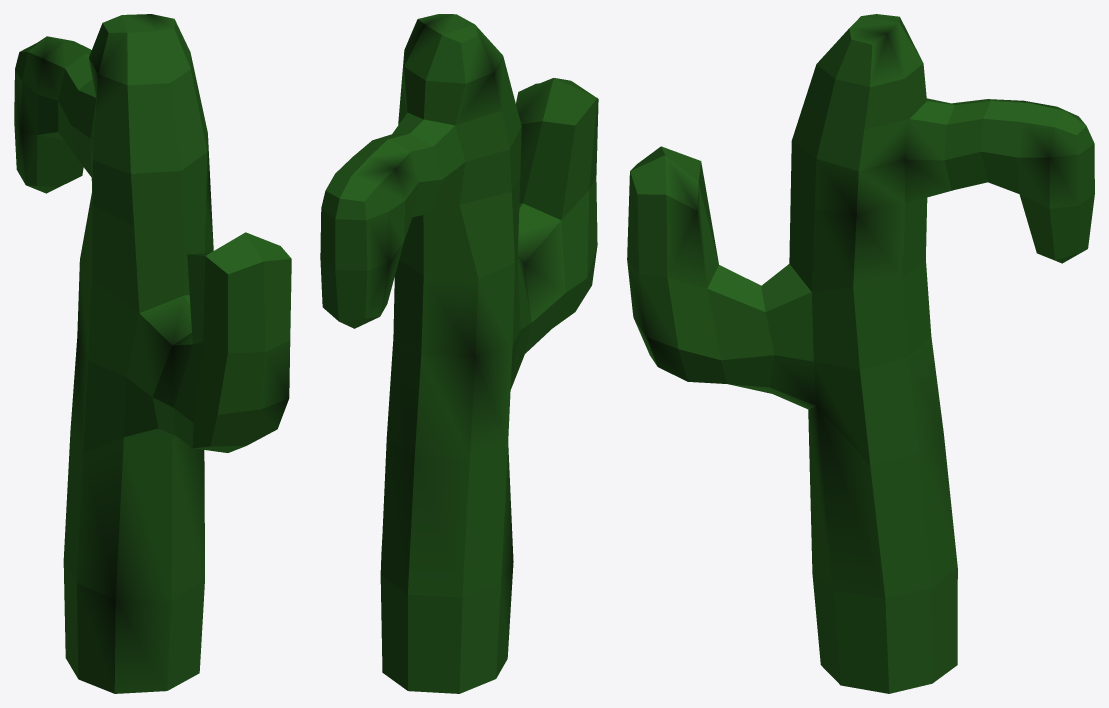
The model's file is Cacto2.fbx.
3 views of the same model, side by side, from view 1: azimuth 30°, elevation 25°; view 2: azimuth 150°, elevation 25°; view 3: azimuth 270°, elevation 25° (orthographic).
Parts seen in each view (by area): view 1: LOD_0; view 2: LOD_0; view 3: LOD_0.
Part boxes in pixels (box(x1,y1,x2,y2)): LOD_0: box(14, 14, 291, 693); LOD_0: box(320, 14, 598, 693); LOD_0: box(627, 14, 1094, 693).
Size of what is drawn, in the model's own units: 270 by 408 by 80.44.
